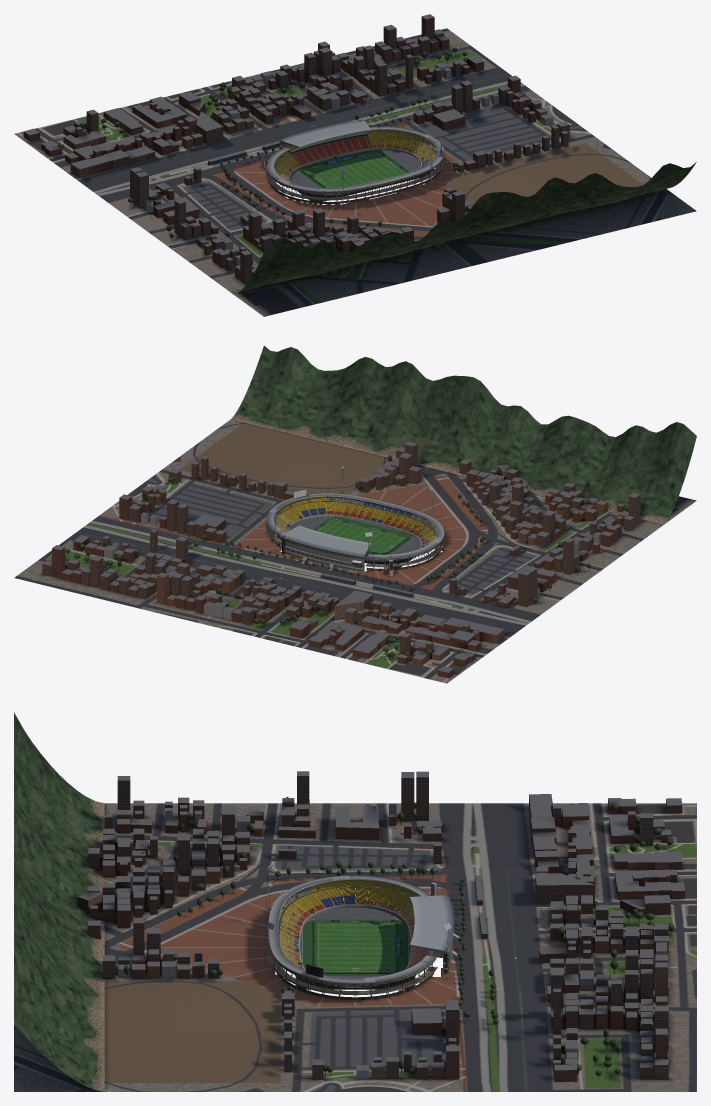
File: el_campin.glb
3 renders of one model, top to bottom at view 1: azimuth 30°, elevation 25°; view 2: azimuth 150°, elevation 25°; view 3: azimuth 270°, elevation 25°, orthographic. The views are drawn at different scales.
Parts seen in each view (by area): view 1: StadiumBackdrop, ElCampin; view 2: StadiumBackdrop, ElCampin; view 3: StadiumBackdrop, ElCampin.
Boxes of the visible parts, x1,y1,x2,y2 form: StadiumBackdrop: (14, 14, 696, 316); ElCampin: (168, 91, 539, 247); StadiumBackdrop: (14, 345, 696, 683); ElCampin: (171, 461, 542, 616); StadiumBackdrop: (14, 712, 696, 1091); ElCampin: (173, 854, 547, 1028).
Size of the model in its own units: 640 by 104 by 640.
41 materials, 18 textured.
